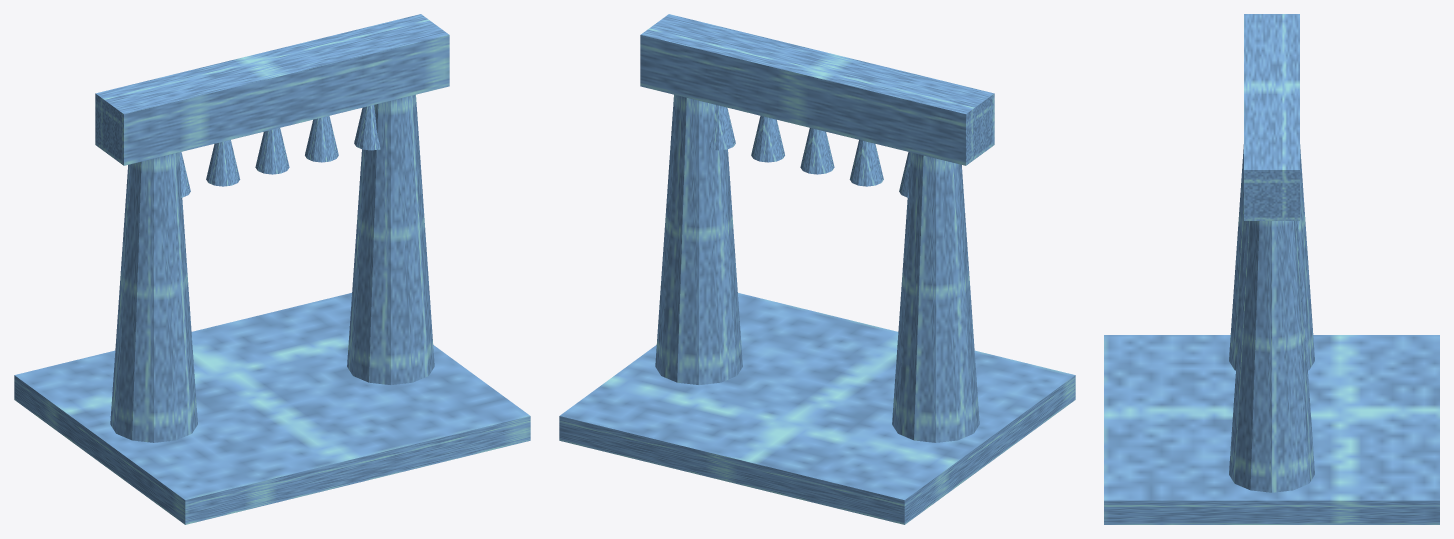
File: frost_arch_00.glb
The picture shows the model from 3 angles, left to right: view 1: azimuth 30°, elevation 25°; view 2: azimuth 150°, elevation 25°; view 3: azimuth 270°, elevation 25°; orthographic projection.
Visible parts, largest first — view 1: Foundation, FrozenLintel, IceColumn, IceColumn.001, Icicle.002, Icicle.001, Icicle.003, Icicle.004; view 2: Foundation, FrozenLintel, IceColumn, IceColumn.001, Icicle.002, Icicle.001, Icicle.003, Icicle.004; view 3: Foundation, IceColumn.001, FrozenLintel, IceColumn.
Boxes of the visible parts, left/top/right/bottom form: Foundation: left=14, top=293, right=530, bottom=524; FrozenLintel: left=95, top=14, right=449, bottom=165; IceColumn: left=110, top=152, right=197, bottom=442; IceColumn.001: left=347, top=94, right=434, bottom=384; Icicle.002: left=255, top=128, right=289, bottom=174; Icicle.001: left=206, top=140, right=240, bottom=186; Icicle.003: left=305, top=116, right=338, bottom=162; Icicle.004: left=354, top=105, right=380, bottom=150; Foundation: left=559, top=293, right=1075, bottom=524; FrozenLintel: left=640, top=14, right=994, bottom=165; IceColumn: left=892, top=152, right=979, bottom=442; IceColumn.001: left=655, top=94, right=742, bottom=384; Icicle.002: left=800, top=128, right=834, bottom=174; Icicle.001: left=849, top=140, right=883, bottom=186; Icicle.003: left=751, top=116, right=784, bottom=162; Icicle.004: left=709, top=105, right=735, bottom=150; Foundation: left=1104, top=335, right=1439, bottom=524; IceColumn.001: left=1229, top=221, right=1314, bottom=492; FrozenLintel: left=1244, top=14, right=1299, bottom=220; IceColumn: left=1229, top=144, right=1314, bottom=370.
Size of the model in its own units: 3.5 by 3.45 by 3.
Materials: 1 (1 with a texture image).
